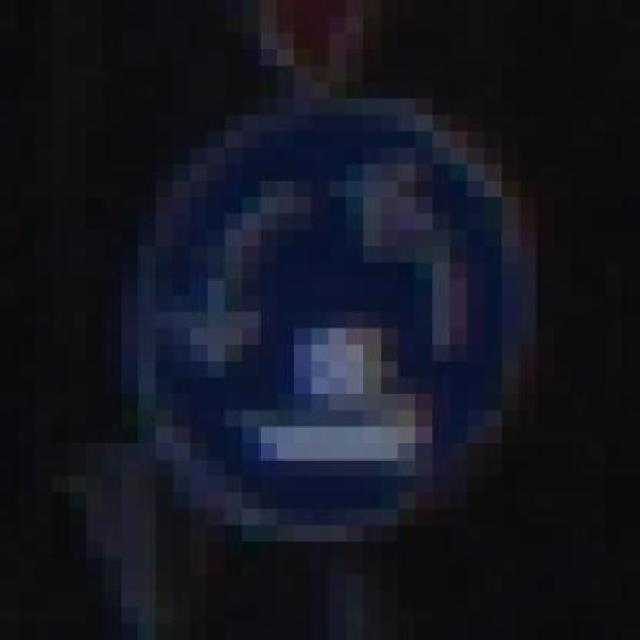Round-About: (69, 81, 588, 542)
